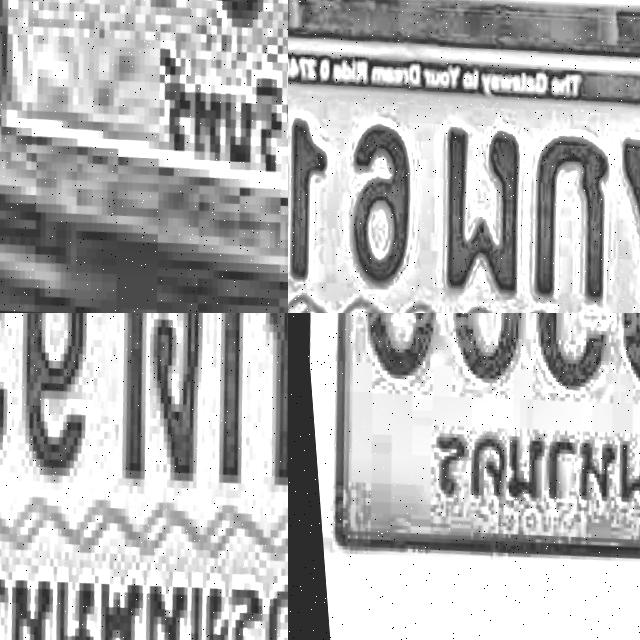license-plate: (288, 0, 640, 313), (295, 313, 640, 601), (0, 313, 288, 640), (0, 0, 288, 313)
